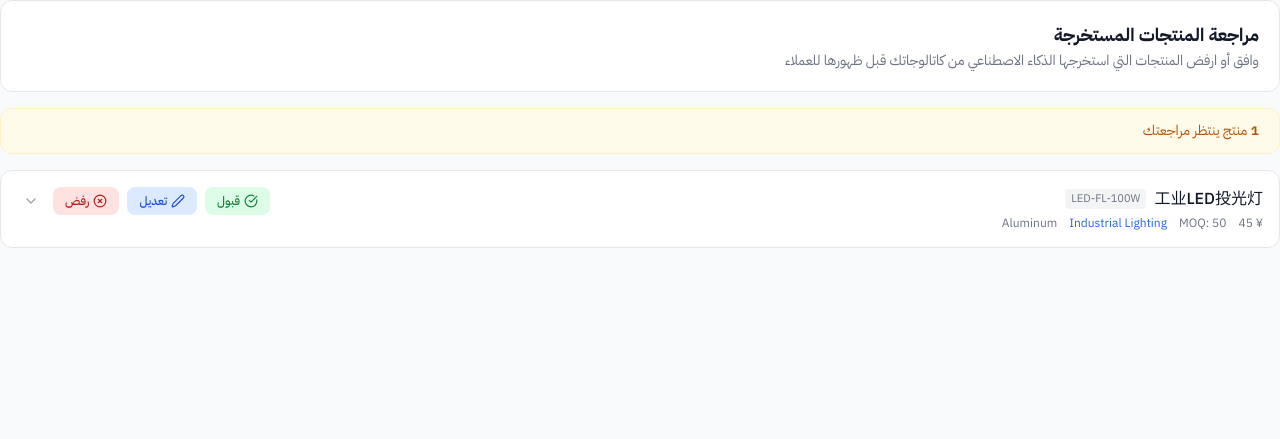
it: ProductReviewPage › shows a non-canonical category in the free-text 'other' field when editing
The image size is (1280, 439).
Expected: the text "工业LED投光灯" is shown, top-left (1154, 187), bottom-right (1263, 211)
Click the button "تعديل". click: point(162, 201)
box: top-left (127, 187), bottom-right (197, 215)
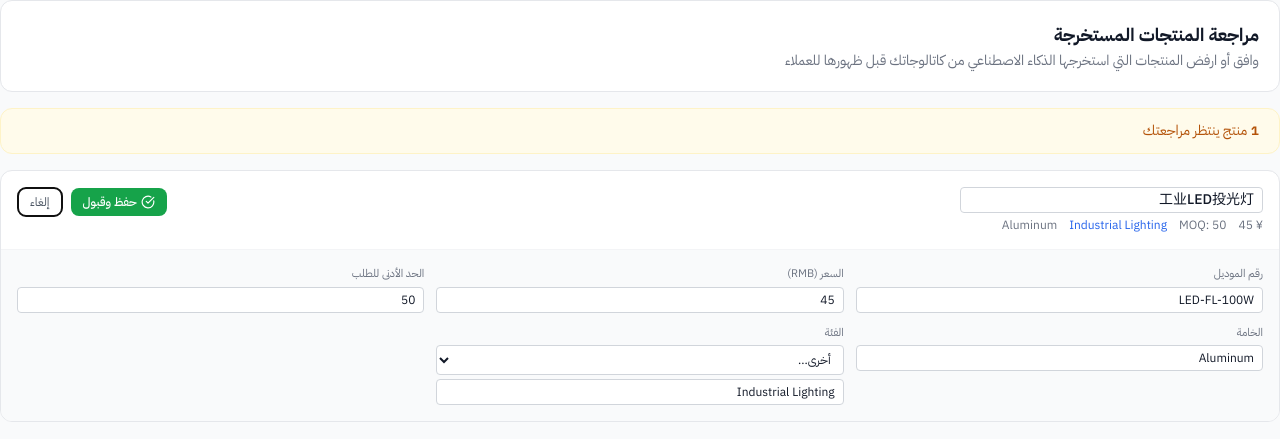
Expected: the field showing "Industrial Lighting" below "الفئة" is shown, top-left (436, 379), bottom-right (844, 405)
